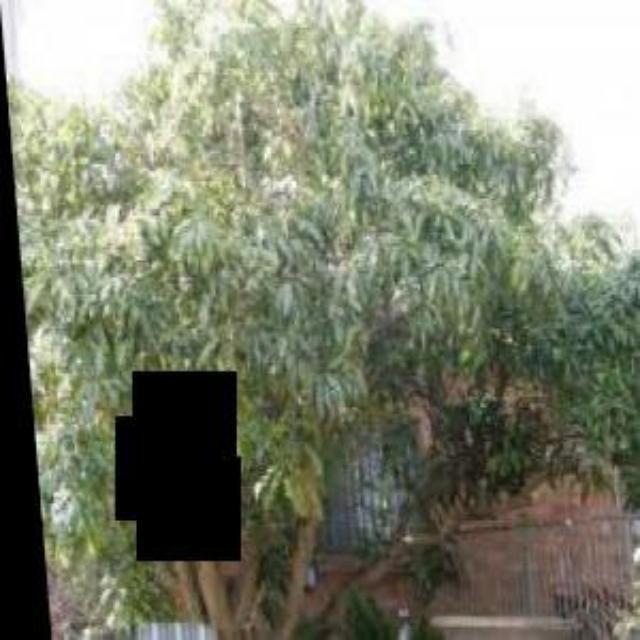tree: (13, 8, 601, 638)
